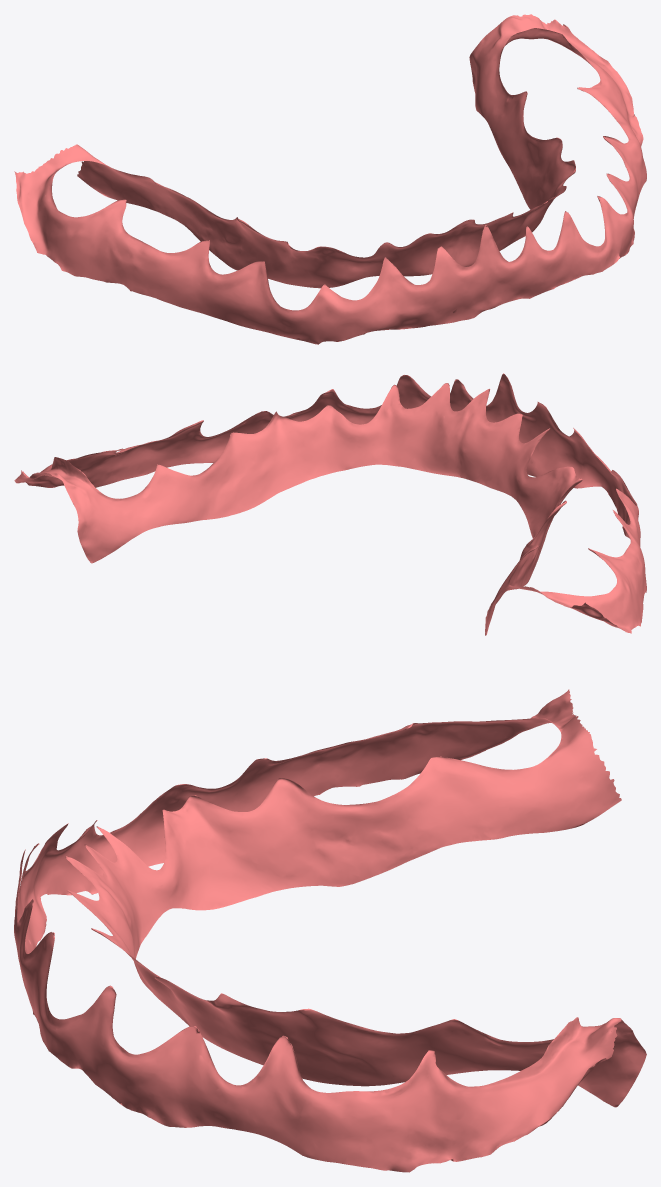
The model's file is imgums_gums_L.glb.
The picture shows the model from 3 angles, top to bottom: view 1: azimuth 30°, elevation 25°; view 2: azimuth 150°, elevation 25°; view 3: azimuth 270°, elevation 25°; orthographic projection. The views are drawn at different scales.
Parts seen in each view (by area): view 1: bgum.002; view 2: bgum.002; view 3: bgum.002.
Boxes of the visible parts, box(x1,y1,x2,y2) form: bgum.002: box(14, 14, 646, 344); bgum.002: box(14, 373, 646, 635); bgum.002: box(14, 689, 646, 1172).
Size of the model in its own units: 73.82 by 13.97 by 48.34.
